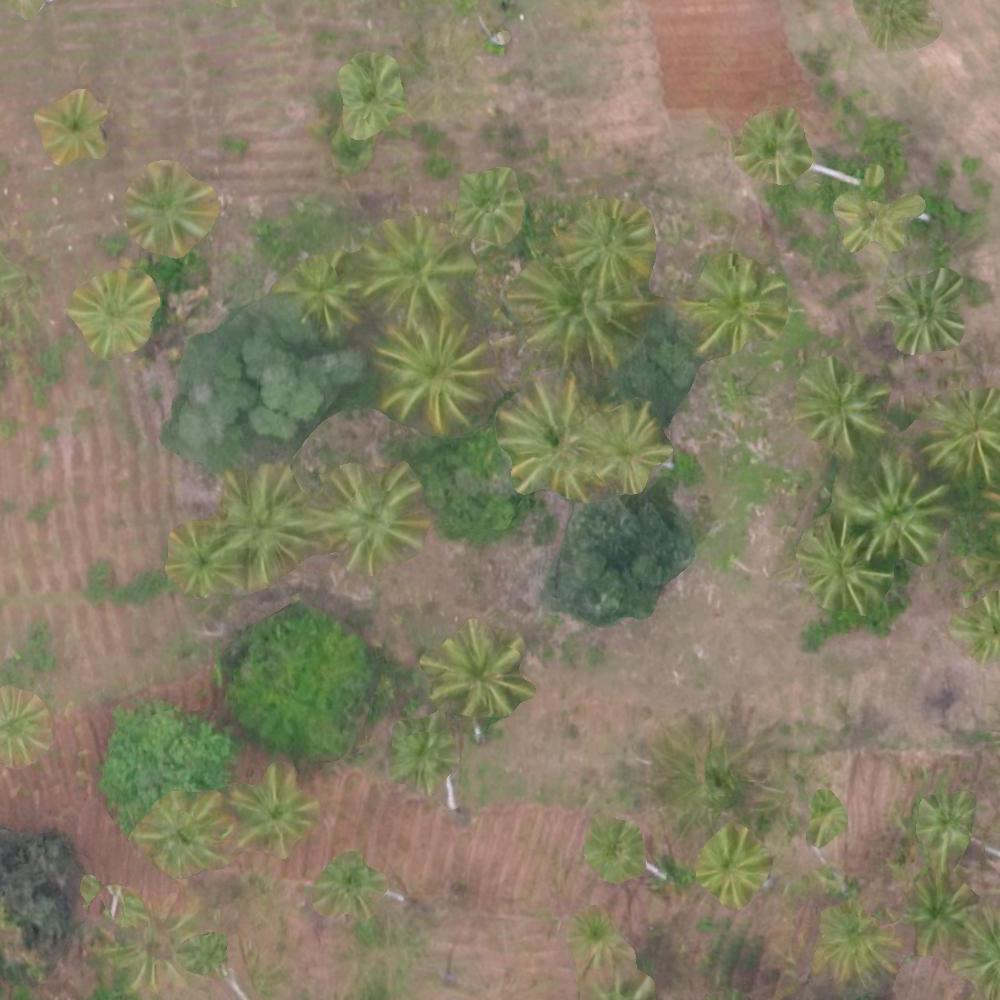Palm: (501, 376, 603, 489), (838, 455, 945, 562), (374, 321, 485, 424), (522, 254, 629, 356), (314, 466, 428, 558), (219, 468, 312, 571), (427, 626, 525, 722), (688, 260, 781, 357), (801, 515, 894, 612), (368, 221, 461, 314), (138, 796, 231, 881), (922, 390, 1000, 487), (237, 765, 320, 852), (798, 361, 881, 448), (566, 201, 651, 284), (586, 406, 668, 486), (166, 518, 245, 595), (81, 272, 158, 348), (887, 274, 964, 350), (126, 172, 205, 246), (840, 174, 919, 248), (815, 901, 890, 976), (696, 829, 770, 902), (898, 874, 970, 947), (735, 116, 812, 180), (287, 260, 361, 323), (390, 721, 457, 788), (38, 95, 104, 160), (915, 792, 977, 856), (459, 177, 518, 242), (584, 822, 644, 880)
